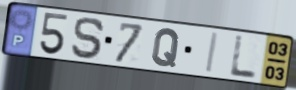5: (38, 11, 70, 57)
7: (114, 21, 146, 64)
I: (203, 31, 221, 75)
L: (227, 34, 258, 81)
Q: (150, 27, 183, 69)
S: (69, 16, 107, 61)
